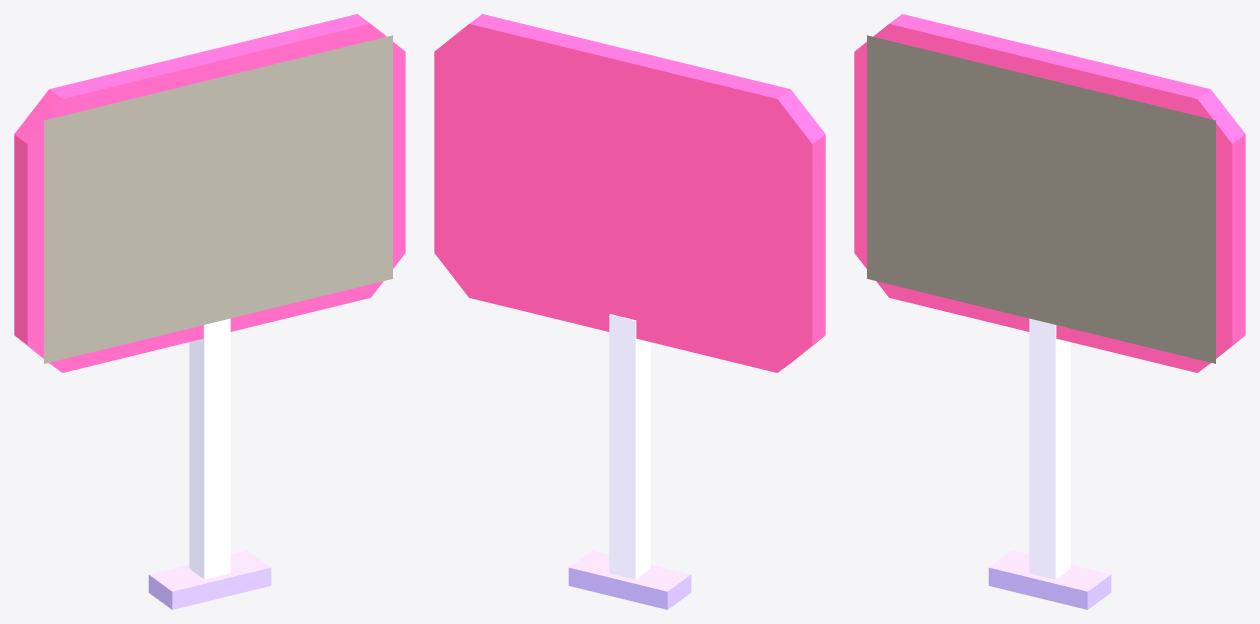
Rendered from mirror-board.glb.
3 views of the same model, side by side, from view 1: azimuth 30°, elevation 25°; view 2: azimuth 150°, elevation 25°; view 3: azimuth 330°, elevation 25° (orthographic).
Parts seen in each view (by area): view 1: mirror-board; view 2: mirror-board; view 3: mirror-board.
Part boxes in pixels (x1,y1,x2,y2): mirror-board: (14, 14, 405, 609); mirror-board: (434, 14, 825, 609); mirror-board: (854, 14, 1245, 609).
Bounding box in the file's own units: 1.3 × 1.75 × 0.14.
